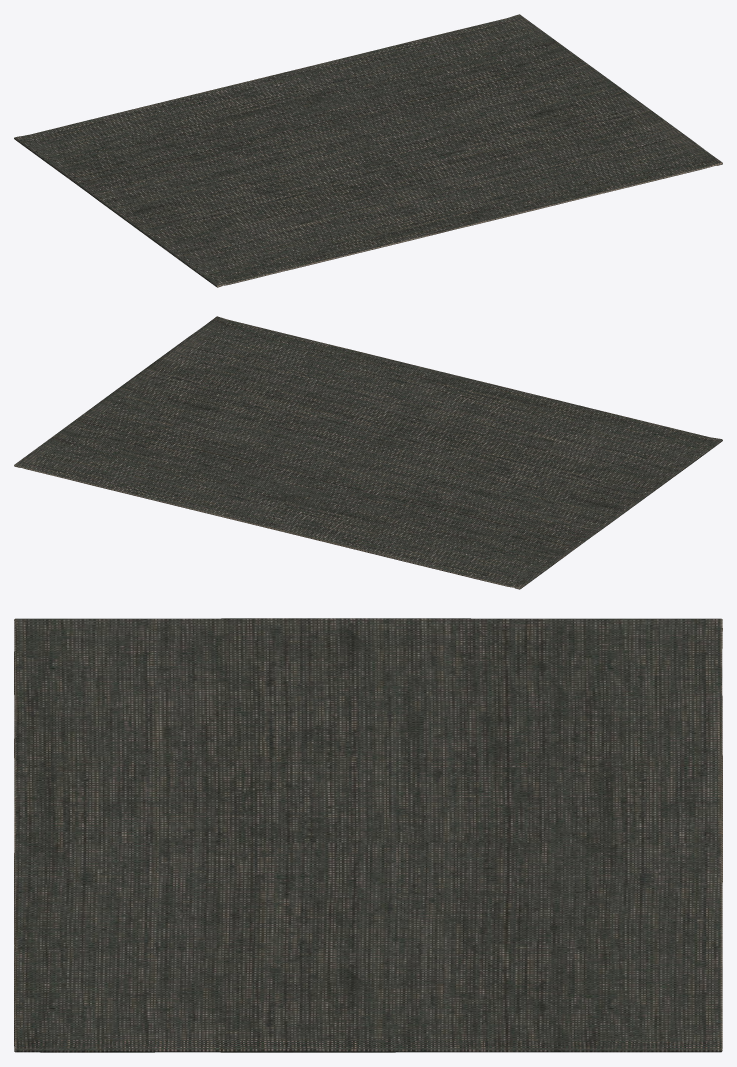
3 renders of one model, top to bottom at view 1: azimuth 30°, elevation 25°; view 2: azimuth 150°, elevation 25°; view 3: azimuth 270°, elevation 25°, orthographic. The views are drawn at different scales.
Parts seen in each view (by area): view 1: ASY_ART_80560573_S01_NV01; view 2: ASY_ART_80560573_S01_NV01; view 3: ASY_ART_80560573_S01_NV01.
Boxes of the visible parts, x1,y1,x2,y2 form: ASY_ART_80560573_S01_NV01: (14,14,722,287); ASY_ART_80560573_S01_NV01: (14,316,722,589); ASY_ART_80560573_S01_NV01: (14,618,722,1052).
Size of the model in its own units: 2.3 by 0.0117 by 1.6.
Materials: 1 (1 with a texture image).
